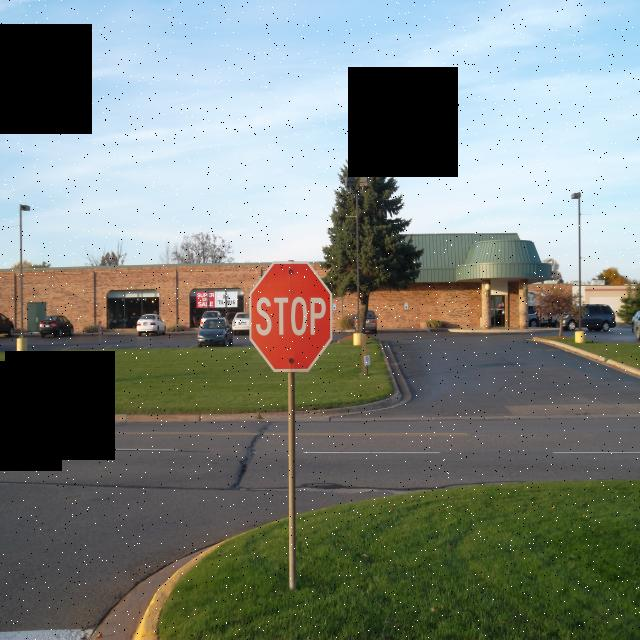stop: (247, 259, 333, 377)
